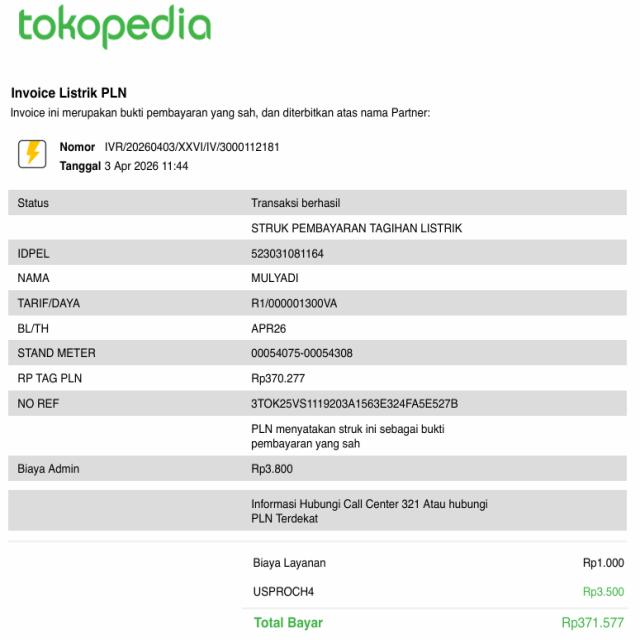date: (103, 158, 194, 172)
store: (18, 2, 218, 46), (8, 84, 133, 100)
total: (252, 611, 630, 640)
